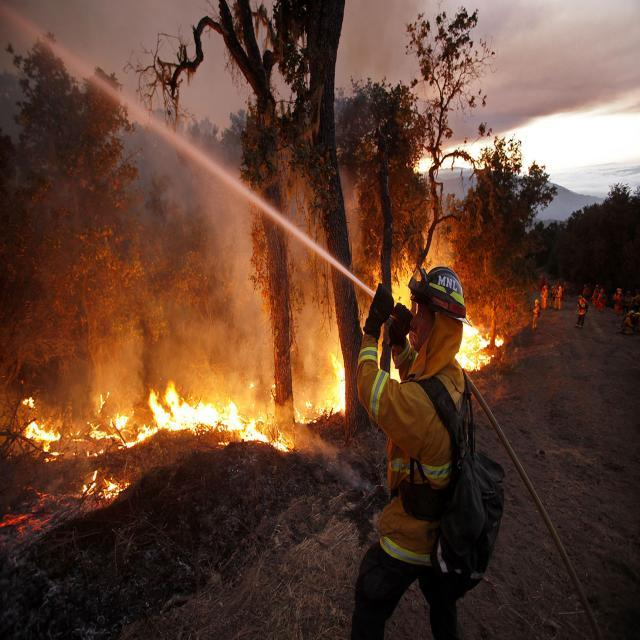Fire: (0, 347, 350, 505), (458, 322, 504, 374)
